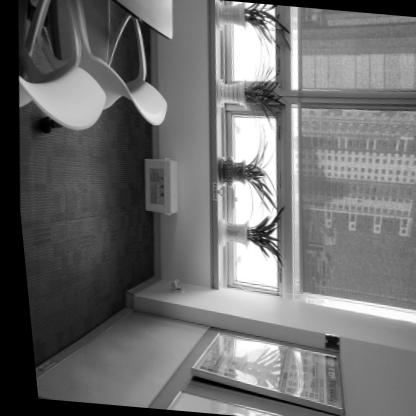DDL: (135, 154, 178, 216)
